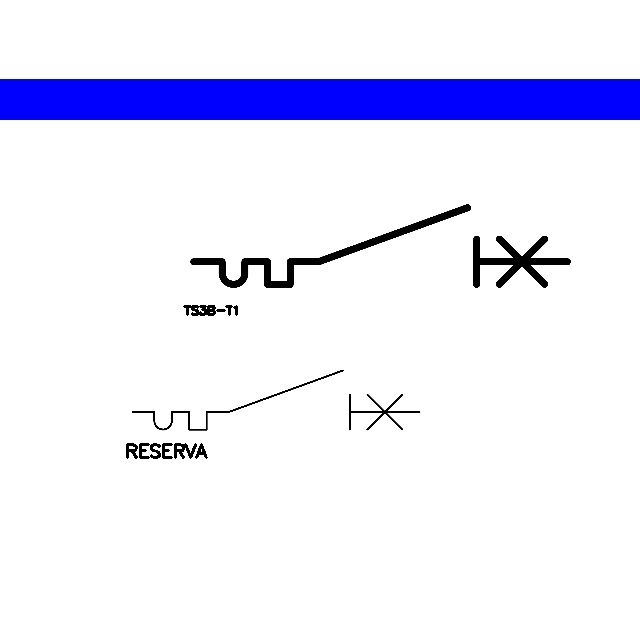interruptor_termomagnetico: (184, 198, 577, 294), (125, 363, 427, 437)
